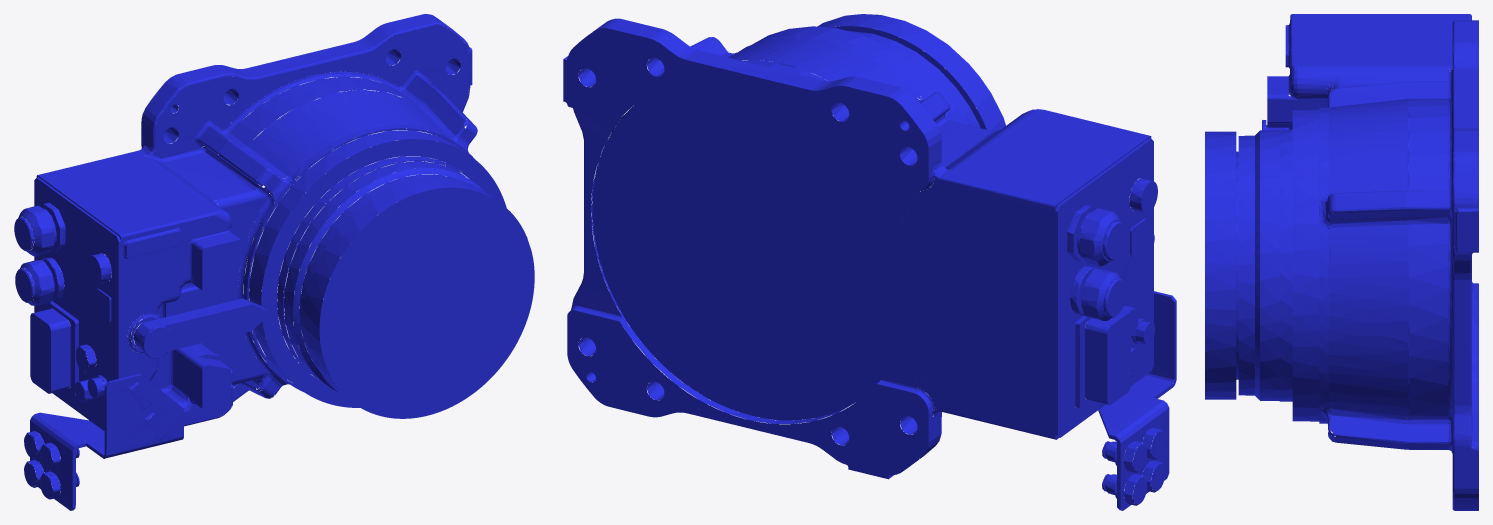
File: BaseLink.glb
3 renders of one model, left to right at view 1: azimuth 30°, elevation 25°; view 2: azimuth 150°, elevation 25°; view 3: azimuth 270°, elevation 25°, orthographic. The views are drawn at different scales.
Parts seen in each view (by area): view 1: /BaseLink/BaseLink_001-mesh/0; view 2: /BaseLink/BaseLink_001-mesh/0; view 3: /BaseLink/BaseLink_001-mesh/0.
Part boxes in pixels (x1,y1,x2,y2): /BaseLink/BaseLink_001-mesh/0: (14,14,534,510); /BaseLink/BaseLink_001-mesh/0: (563,14,1176,510); /BaseLink/BaseLink_001-mesh/0: (1205,14,1478,510).
Size of the model in its own units: 0.6655 by 0.465 by 0.312.
